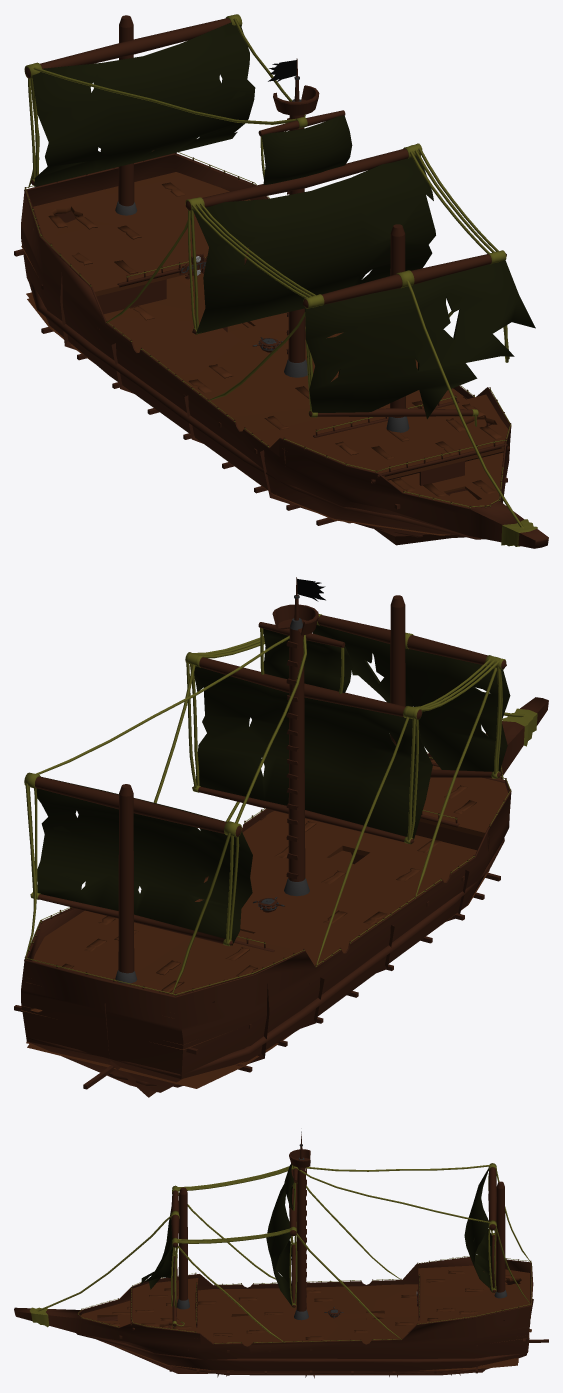
The model's file is NavioFim.fbx.
3 views of the same model, one above another, from view 1: azimuth 30°, elevation 25°; view 2: azimuth 150°, elevation 25°; view 3: azimuth 270°, elevation 25° (orthographic). The views are drawn at different scales.
Parts seen in each view (by area): view 1: Casco, Vela, Vela.003, Vela.002, Piso, Piso.002, Piso.003, Cordas, MastroMeio, MastroFrente, Vela.001, MastroTras (+4 smaller); view 2: Casco, Vela, Piso, Vela.003, Vela.002, Piso.002, MastroMeio, Cordas, MastroTras, MastroFrente, Piso.003, Vela.001 (+3 smaller); view 3: Casco, Piso, Cordas, Piso.002, MastroMeio, Piso.003, MastroFrente, MastroTras, Vela, Vela.003, Cerca, Piso.001 (+1 smaller).
Part boxes in pixels (x1,y1,x2,y2): Casco: (21, 153, 548, 548); Vela: (193, 156, 435, 334); Vela.003: (32, 22, 255, 186); Vela.002: (305, 260, 535, 419); Piso: (14, 241, 507, 509); Piso.002: (33, 172, 250, 296); Piso.003: (282, 394, 509, 483); Cordas: (28, 18, 523, 528); MastroMeio: (185, 58, 422, 377); MastroFrente: (302, 224, 506, 432); Vela.001: (261, 115, 352, 184); MastroTras: (24, 14, 242, 215); Casco: (21, 697, 548, 1097); Vela: (194, 666, 432, 839); Piso: (14, 760, 500, 1054); Vela.003: (36, 777, 252, 945); Vela.002: (312, 625, 510, 771); Piso.002: (26, 910, 291, 1018); MastroMeio: (185, 577, 422, 896); Cordas: (25, 628, 524, 993); MastroTras: (24, 772, 241, 983); MastroFrente: (317, 595, 506, 778); Piso.003: (419, 765, 508, 837); Vela.001: (263, 628, 352, 692); Casco: (14, 1257, 533, 1378); Piso: (81, 1284, 531, 1352); Cordas: (36, 1164, 530, 1341); Piso.002: (418, 1265, 530, 1324); MastroMeio: (289, 1134, 310, 1320); Piso.003: (132, 1278, 198, 1332); MastroFrente: (170, 1185, 189, 1326); MastroTras: (488, 1163, 507, 1298); Vela: (266, 1184, 291, 1305); Vela.003: (464, 1168, 492, 1292); Cerca: (77, 1255, 531, 1344); Piso.001: (116, 1312, 548, 1375).
Size of the model in its own units: 4071 by 6717 by 13648.
